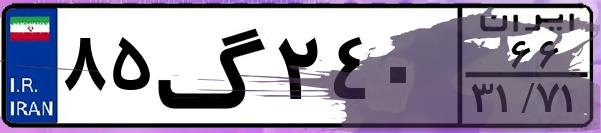0: (385, 28, 445, 110)
1: (560, 70, 590, 125), (495, 70, 520, 125)
2: (270, 28, 330, 110)
3: (470, 70, 495, 125)
4: (330, 28, 385, 110)
5: (110, 28, 156, 98)
6: (537, 27, 568, 80), (508, 27, 537, 80)
7: (535, 70, 560, 125)
8: (57, 26, 110, 100)
گ: (156, 12, 270, 120)
